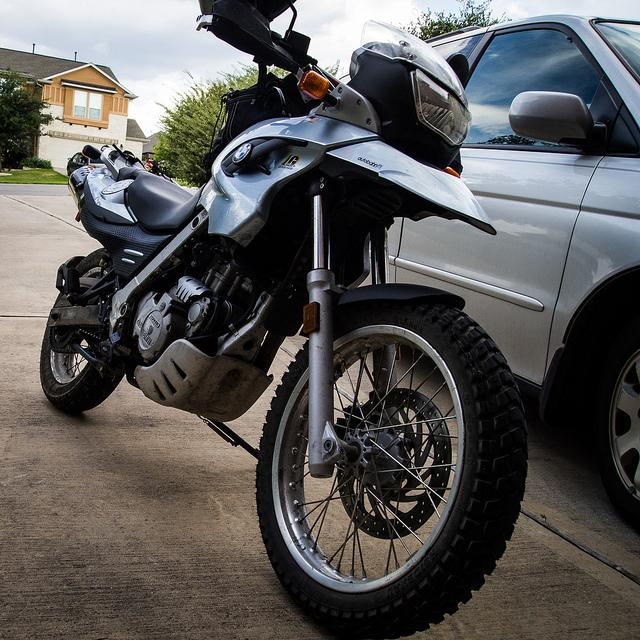motor: (39, 1, 527, 640)
